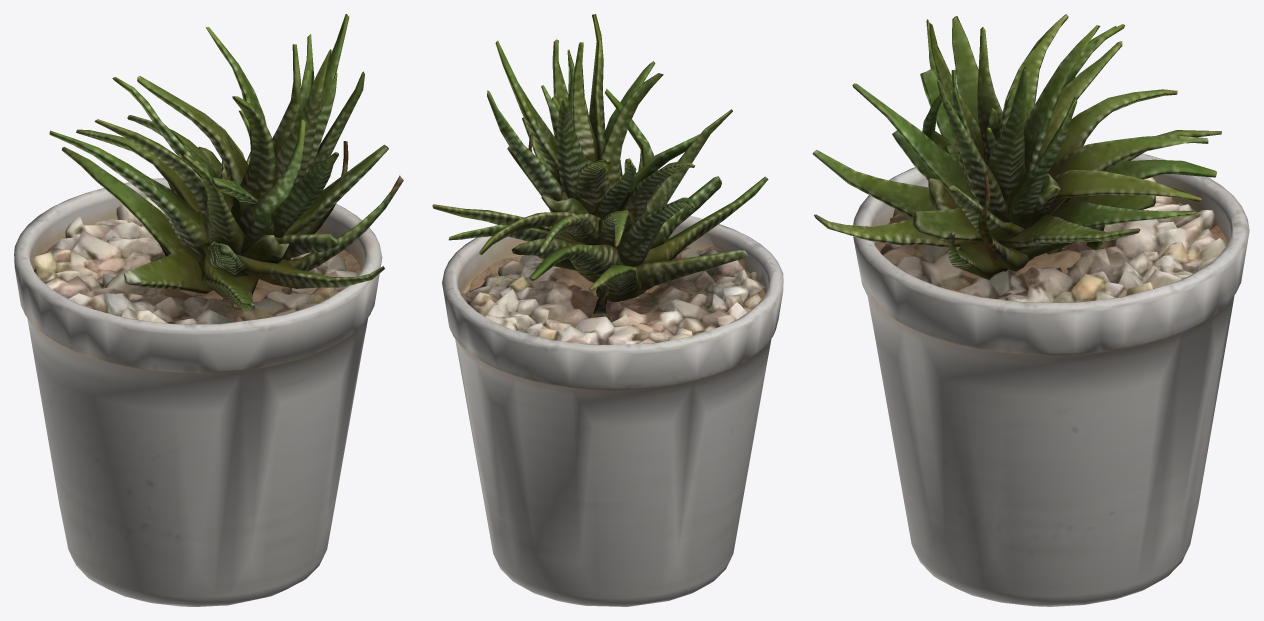
Rendered from potted_plant_04.glb.
3 renders of one model, left to right at view 1: azimuth 30°, elevation 25°; view 2: azimuth 150°, elevation 25°; view 3: azimuth 270°, elevation 25°, orthographic. The views are drawn at different scales.
Visible parts, largest first — view 1: potted_plant_04_ground; view 2: potted_plant_04_ground; view 3: potted_plant_04_ground.
Boxes of the visible parts, x1,y1,x2,y2 form: potted_plant_04_ground: (14, 14, 403, 606); potted_plant_04_ground: (432, 14, 783, 606); potted_plant_04_ground: (812, 14, 1249, 606).
Bounding box in the file's own units: 0.1674 × 0.2672 × 0.1848.
Materials: 1 (1 with a texture image).
